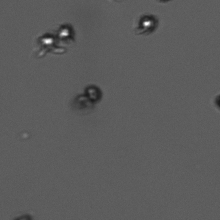Dead Cell: (72, 94, 93, 111), (85, 83, 102, 103)
Living Cell: (134, 11, 160, 38), (53, 19, 79, 46), (35, 27, 61, 54)
